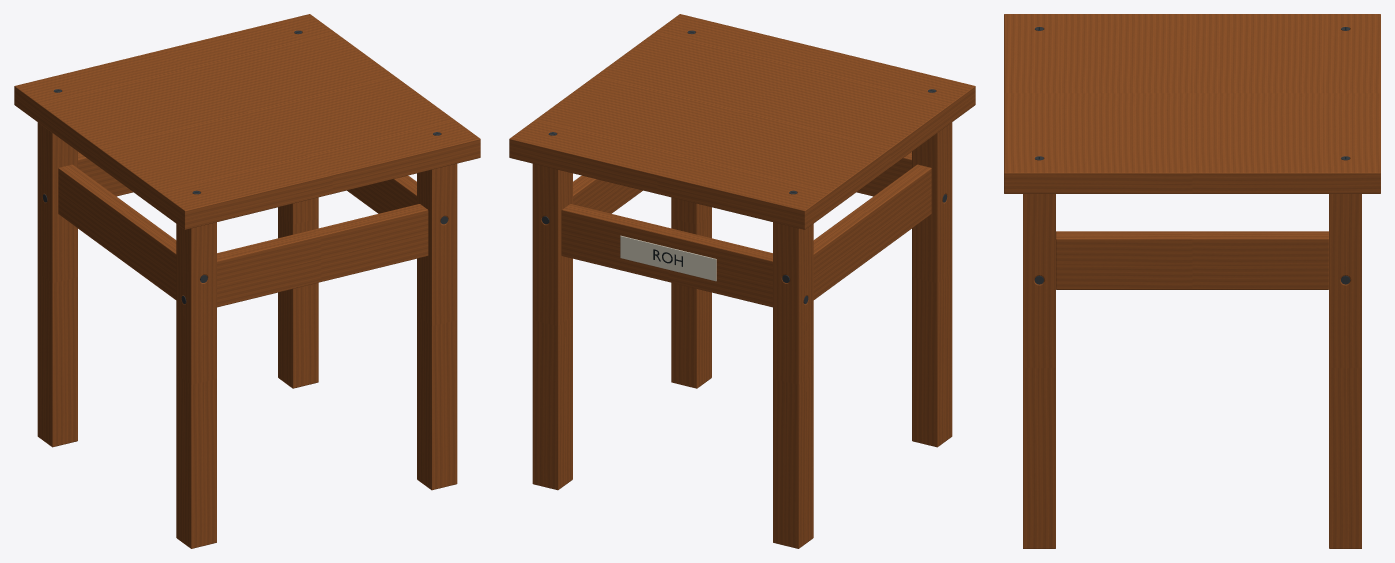
Rendered from Hocker01_Raw.fbx.
3 views of the same model, side by side, from view 1: azimuth 30°, elevation 25°; view 2: azimuth 150°, elevation 25°; view 3: azimuth 270°, elevation 25° (orthographic). The views are drawn at different scales.
Visible parts, largest first — view 1: Seat__WoodRaw.009, Leg_1__WoodRaw.009, Leg_3__WoodRaw.008, RailX_1__WoodRaw.004, Leg_2__WoodRaw.008, RailY_1__WoodRaw.004, Leg_4__WoodRaw.008, RailY_2__WoodRaw.004, RailX_2__WoodRaw.004; view 2: Seat__WoodRaw.009, Leg_2__WoodRaw.008, Leg_4__WoodRaw.008, Leg_1__WoodRaw.009, RailX_2__WoodRaw.004, RailY_1__WoodRaw.004, Leg_3__WoodRaw.008, StagePlaque__Label.008, RailY_2__WoodRaw.004, RailX_1__WoodRaw.004; view 3: Seat__WoodRaw.009, RailY_2__WoodRaw.004, Leg_3__WoodRaw.008, Leg_4__WoodRaw.008.
Boxes of the visible parts, x1,y1,x2,y2 form: Seat__WoodRaw.009: (14, 14, 480, 229); Leg_1__WoodRaw.009: (176, 222, 216, 548); Leg_3__WoodRaw.008: (417, 163, 457, 490); RailX_1__WoodRaw.004: (217, 204, 428, 307); Leg_2__WoodRaw.008: (37, 122, 77, 447); RailY_1__WoodRaw.004: (58, 164, 176, 299); Leg_4__WoodRaw.008: (278, 197, 318, 388); RailY_2__WoodRaw.004: (347, 175, 416, 213); RailX_2__WoodRaw.004: (78, 152, 132, 196); Seat__WoodRaw.009: (509, 14, 975, 229); Leg_2__WoodRaw.008: (773, 222, 813, 548); Leg_4__WoodRaw.008: (532, 163, 572, 490); Leg_1__WoodRaw.009: (912, 122, 952, 447); RailX_2__WoodRaw.004: (561, 204, 772, 307); RailY_1__WoodRaw.004: (813, 164, 931, 299); Leg_3__WoodRaw.008: (671, 197, 711, 388); StagePlaque__Label.008: (620, 235, 716, 281); RailY_2__WoodRaw.004: (573, 175, 642, 213); RailX_1__WoodRaw.004: (857, 152, 911, 196); Seat__WoodRaw.009: (1004, 14, 1380, 193); RailY_2__WoodRaw.004: (1056, 231, 1328, 289); Leg_3__WoodRaw.008: (1023, 194, 1055, 548); Leg_4__WoodRaw.008: (1329, 194, 1361, 548).
Bounding box in the file's own units: 40 × 45 × 40.
Materials: 4 (1 with a texture image).
